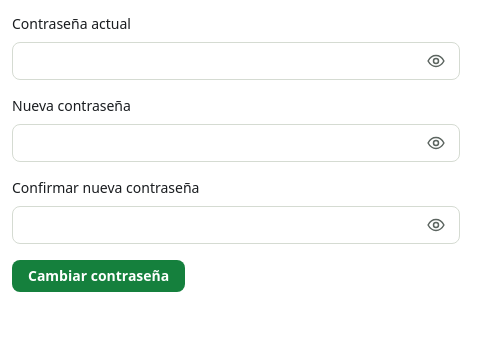
Test: ProfilePasswordForm › requires the confirmation to match
This screenshot has width=477, height=337.
In the password field labelled "Contraseña actual": point(236, 61) [12,42,460,80], type "actual123"
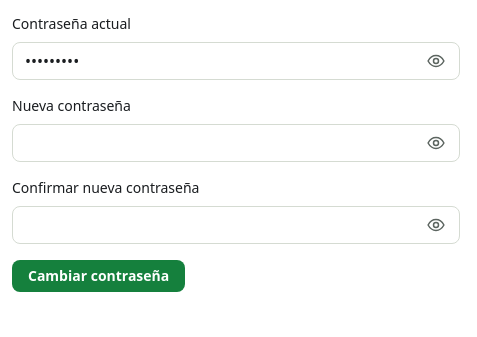
In the password field labelled "Nueva contraseña": point(236, 143) [12,124,460,162], type "nuevaClave1"
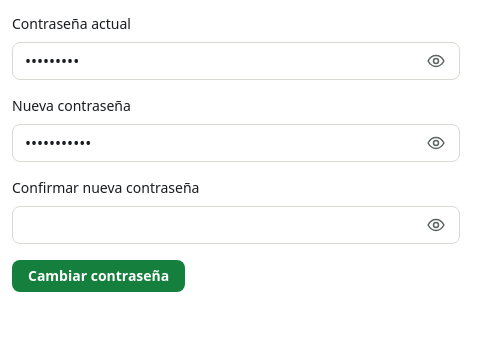
In the password field labelled "Confirmar nueva contraseña": point(236, 225) [12,206,460,244], type "otraDistinta1"
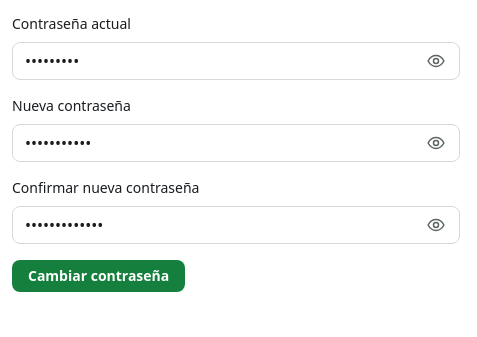
Submit the form
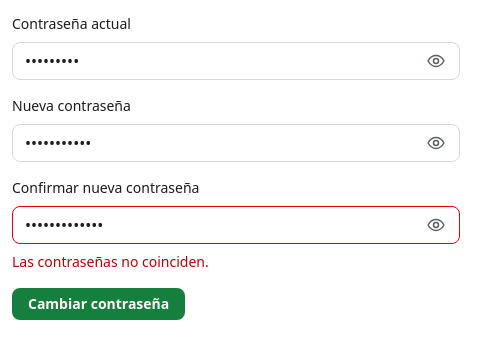
Expected: the form shows "Las contraseñas no coinciden.", [12,252,209,271]
